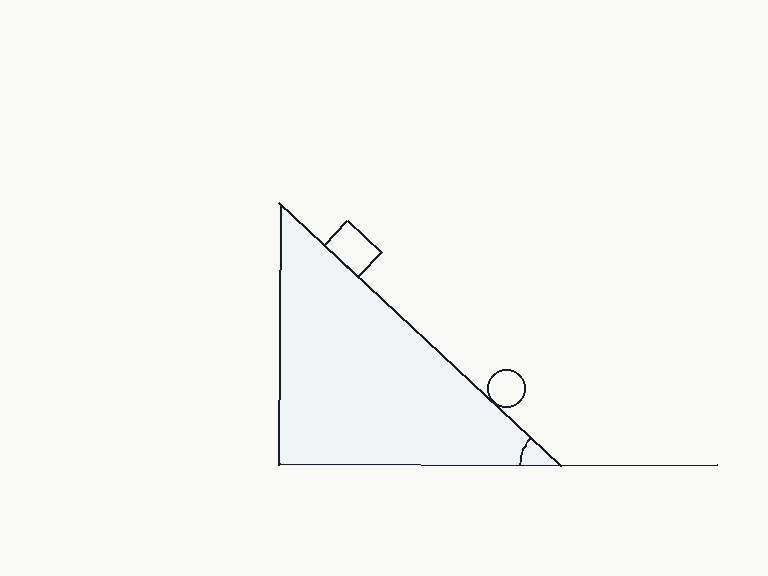ball: (485, 367, 527, 409)
block: (322, 218, 383, 278)
ramp: (278, 202, 562, 467)
